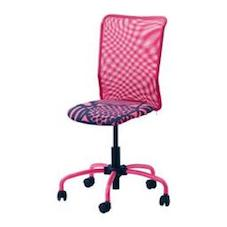chair: (8, 6, 216, 218)
